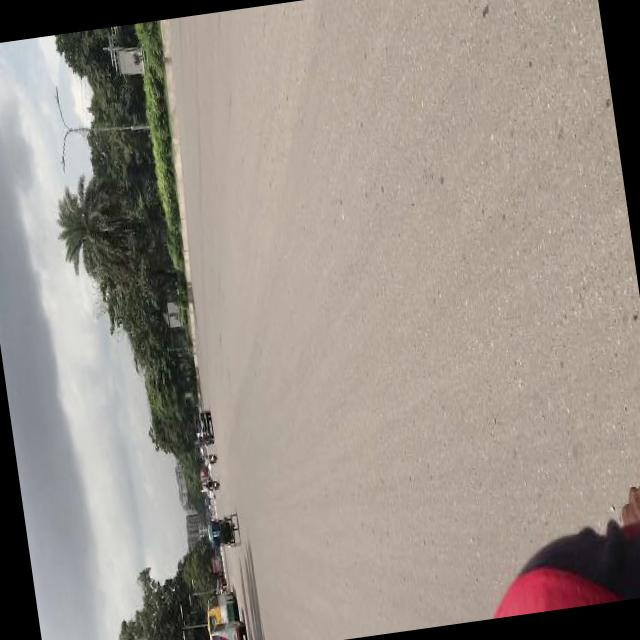bus: (202, 588, 240, 628), (207, 619, 248, 640), (198, 478, 208, 497)
car: (192, 411, 215, 448), (207, 490, 216, 500)
motorcycle: (206, 514, 242, 552), (200, 452, 218, 468), (203, 479, 220, 494)
